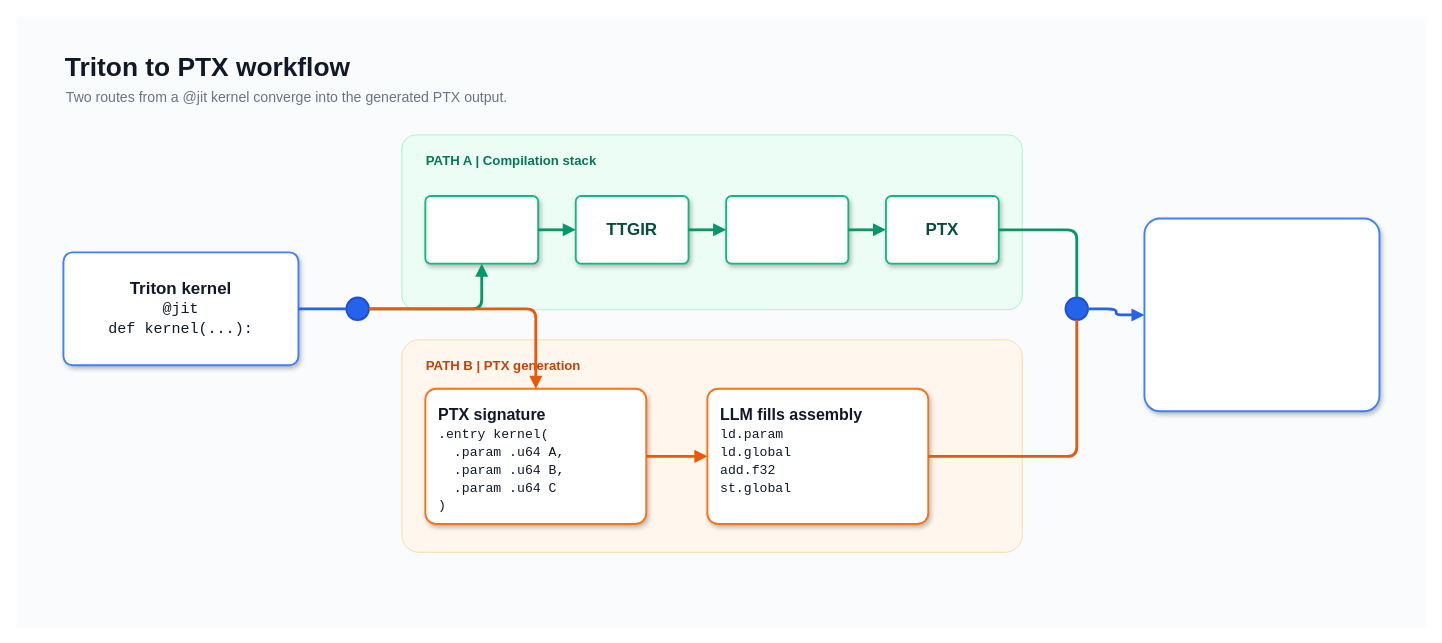
Image size: 1442x643. Some labels were removed from this diagram. The shapes that lost their labels are listed below. From the top down, each one's centre as x and y in pixels, then its label:
At point (482, 231): "TTIR".
At point (787, 231): "LLVM/NVVM IR".
At point (1262, 315): "Generated PTX .entry kernel(...) { ld.param ld.global add.f32 st.global ret }".
